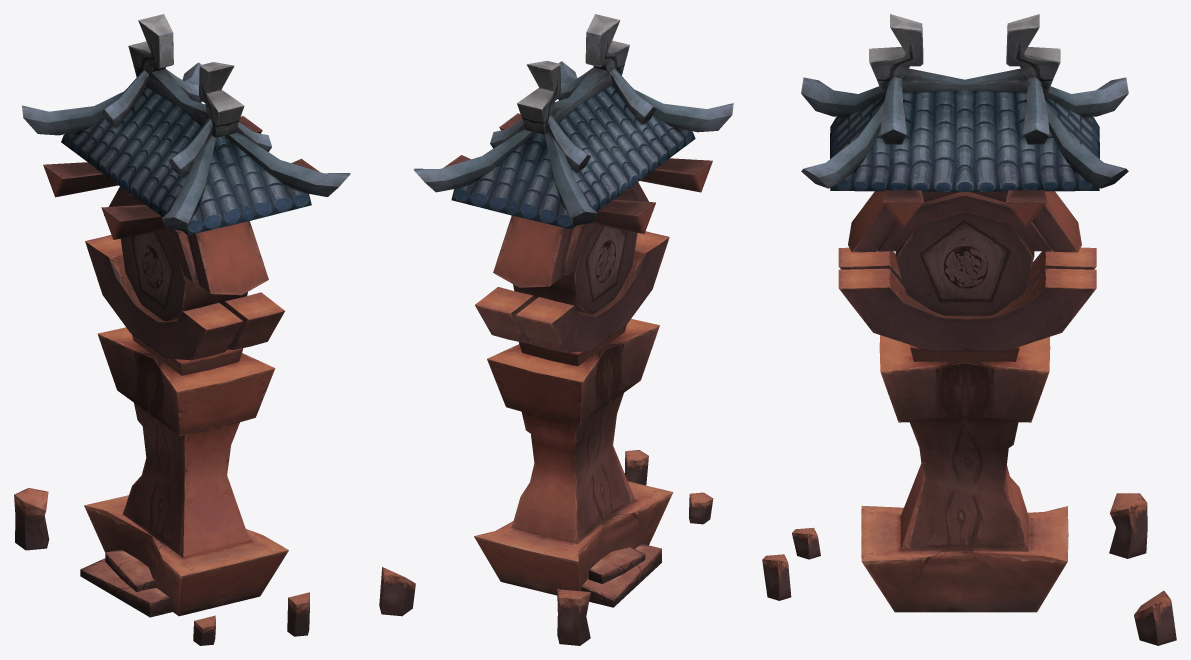
Rendered from shipai01.FBX.
3 renders of one model, left to right at view 1: azimuth 30°, elevation 25°; view 2: azimuth 150°, elevation 25°; view 3: azimuth 270°, elevation 25°, orthographic. The views are drawn at different scales.
Visible parts, largest first — view 1: shipai; view 2: shipai; view 3: shipai.
Part boxes in pixels (x1,y1,x2,y2): shipai: (14, 14, 350, 645); shipai: (379, 14, 733, 645); shipai: (762, 14, 1176, 645).
Size of the model in its own units: 246 by 392 by 595.
